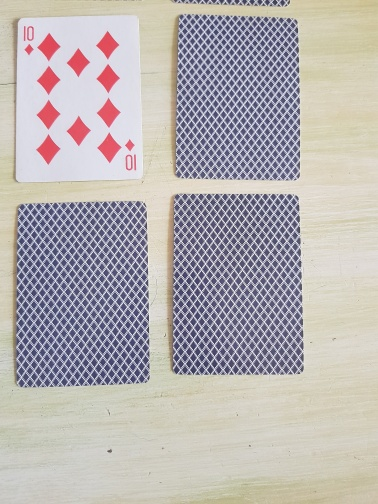ten: (14, 14, 144, 184)
